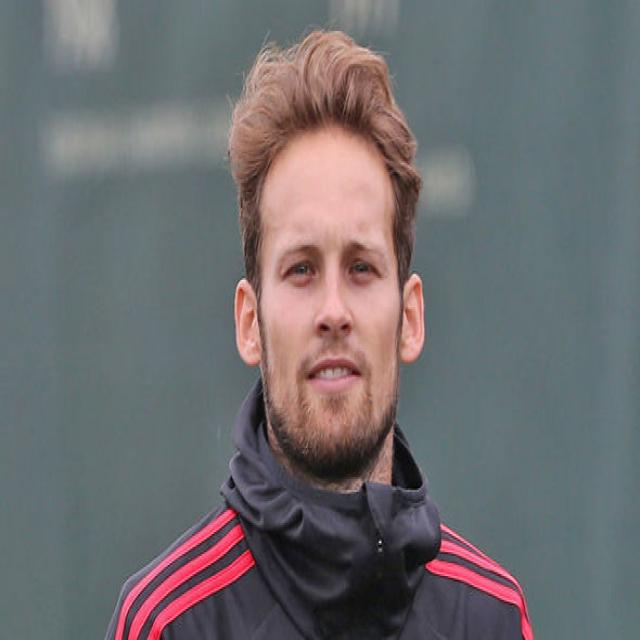mobile_phonerotation: (103, 26, 536, 636)
